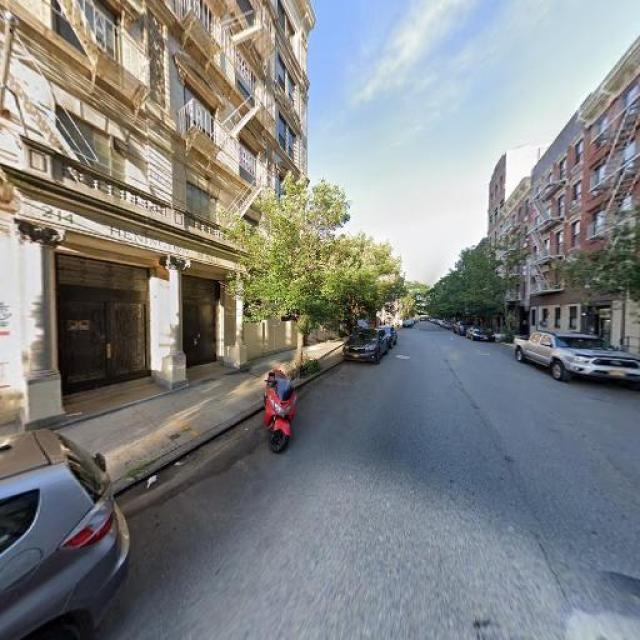Building: (1, 1, 307, 427), (589, 42, 640, 360), (528, 112, 582, 349)
